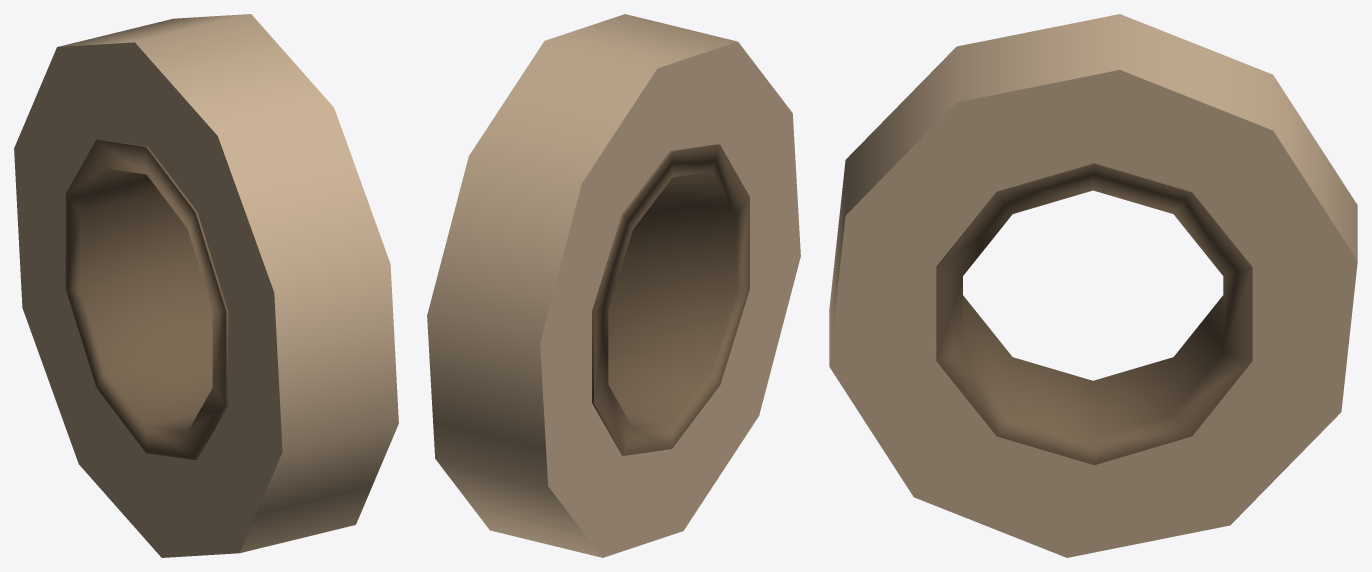
The model's file is Tape 1.fbx.
3 views of the same model, side by side, from view 1: azimuth 30°, elevation 25°; view 2: azimuth 150°, elevation 25°; view 3: azimuth 270°, elevation 25° (orthographic). The views are drawn at different scales.
Visible parts, largest first — view 1: polySurface53, pCylinder18; view 2: polySurface53, pCylinder18; view 3: polySurface53, pCylinder18.
Boxes of the visible parts, x1=… form: polySurface53: x1=14, y1=14, x2=398, y2=557; pCylinder18: x1=65, y1=139, x2=228, y2=460; polySurface53: x1=427, y1=14, x2=800, y2=557; pCylinder18: x1=592, y1=144, x2=749, y2=455; polySurface53: x1=829, y1=14, x2=1357, y2=557; pCylinder18: x1=936, y1=163, x2=1252, y2=464.
Size of the model in its own units: 0.3902 by 1.54 by 1.51.
